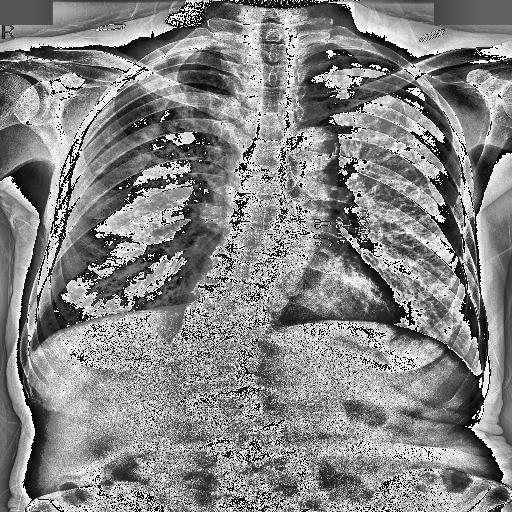0- Aortic enlargement: (277, 124, 338, 169), (282, 126, 340, 168)
10- Pleural effusion: (24, 341, 38, 355)
11- Pleural thickening: (24, 341, 38, 355)
5- ILD: (93, 133, 189, 199)
6- Infiltration: (78, 48, 241, 206)
7- Lung Opacity: (78, 48, 241, 206)
9- Other lesion: (174, 74, 309, 445), (182, 221, 280, 431), (93, 133, 189, 199)
